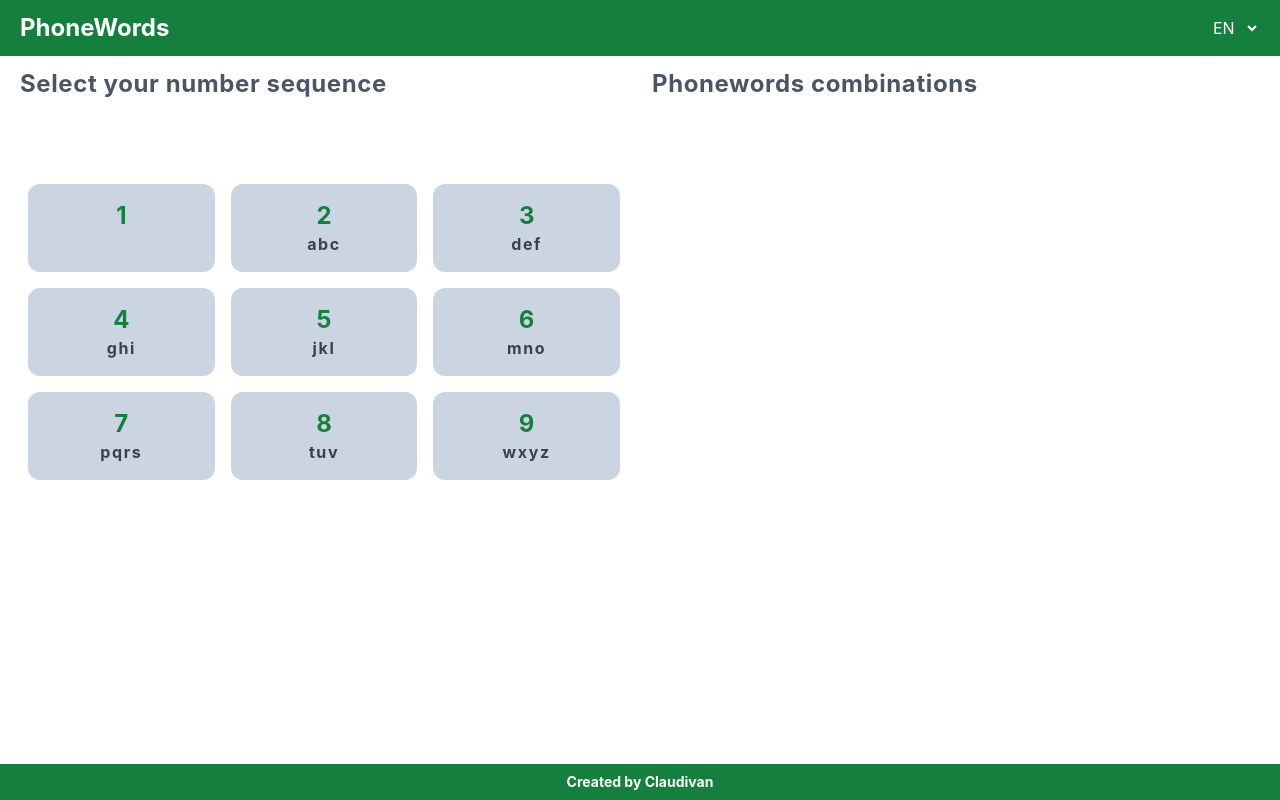
Test: Test Initial Page › should typed number appear when a digit is clicked
Click the button with test id "digit-button-2".
click(324, 228)  # box [231,184,417,272]
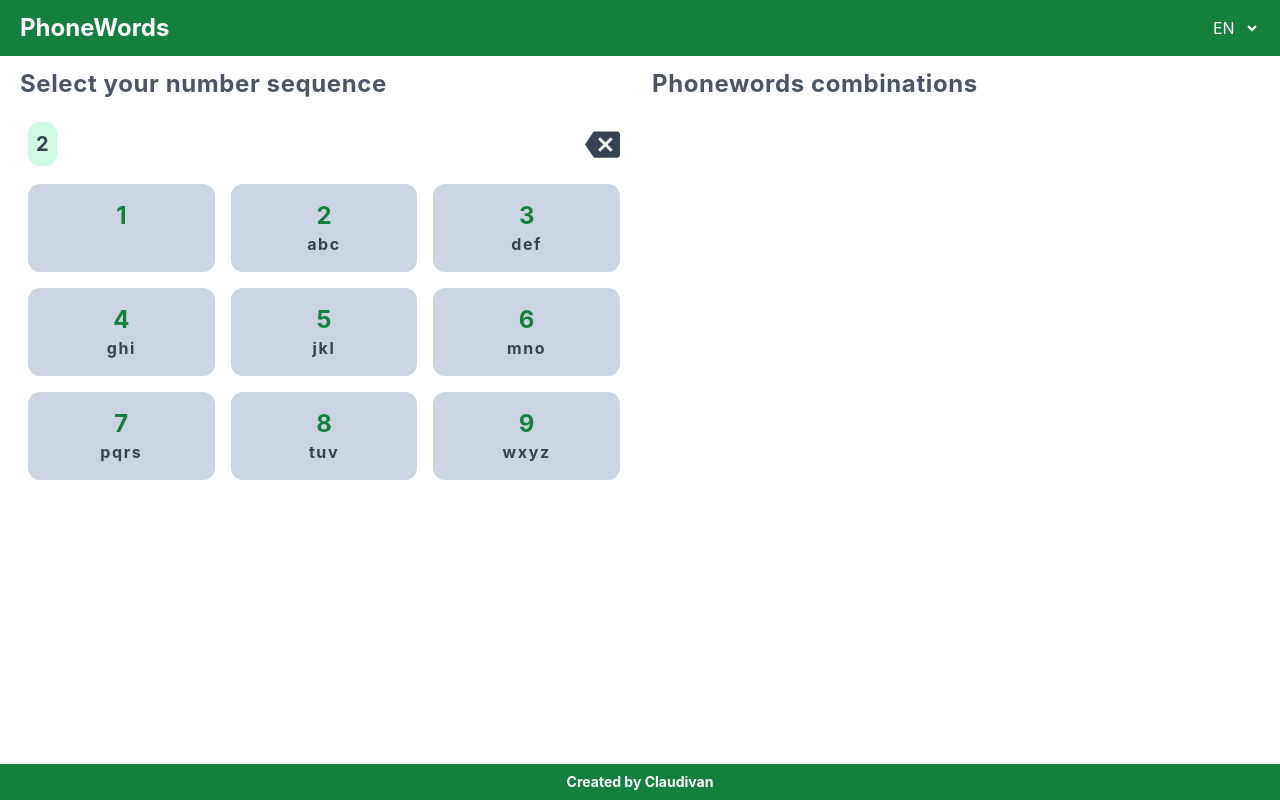
Expected: the element with test id "typed-number-section" is shown, [28,122,620,166]
